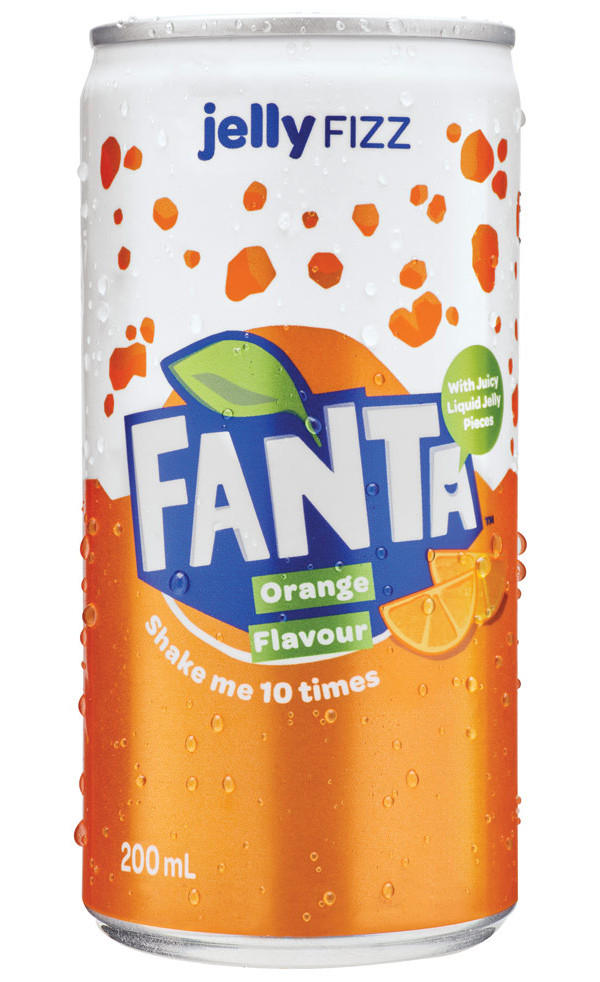Fanta: (42, 7, 551, 979)
